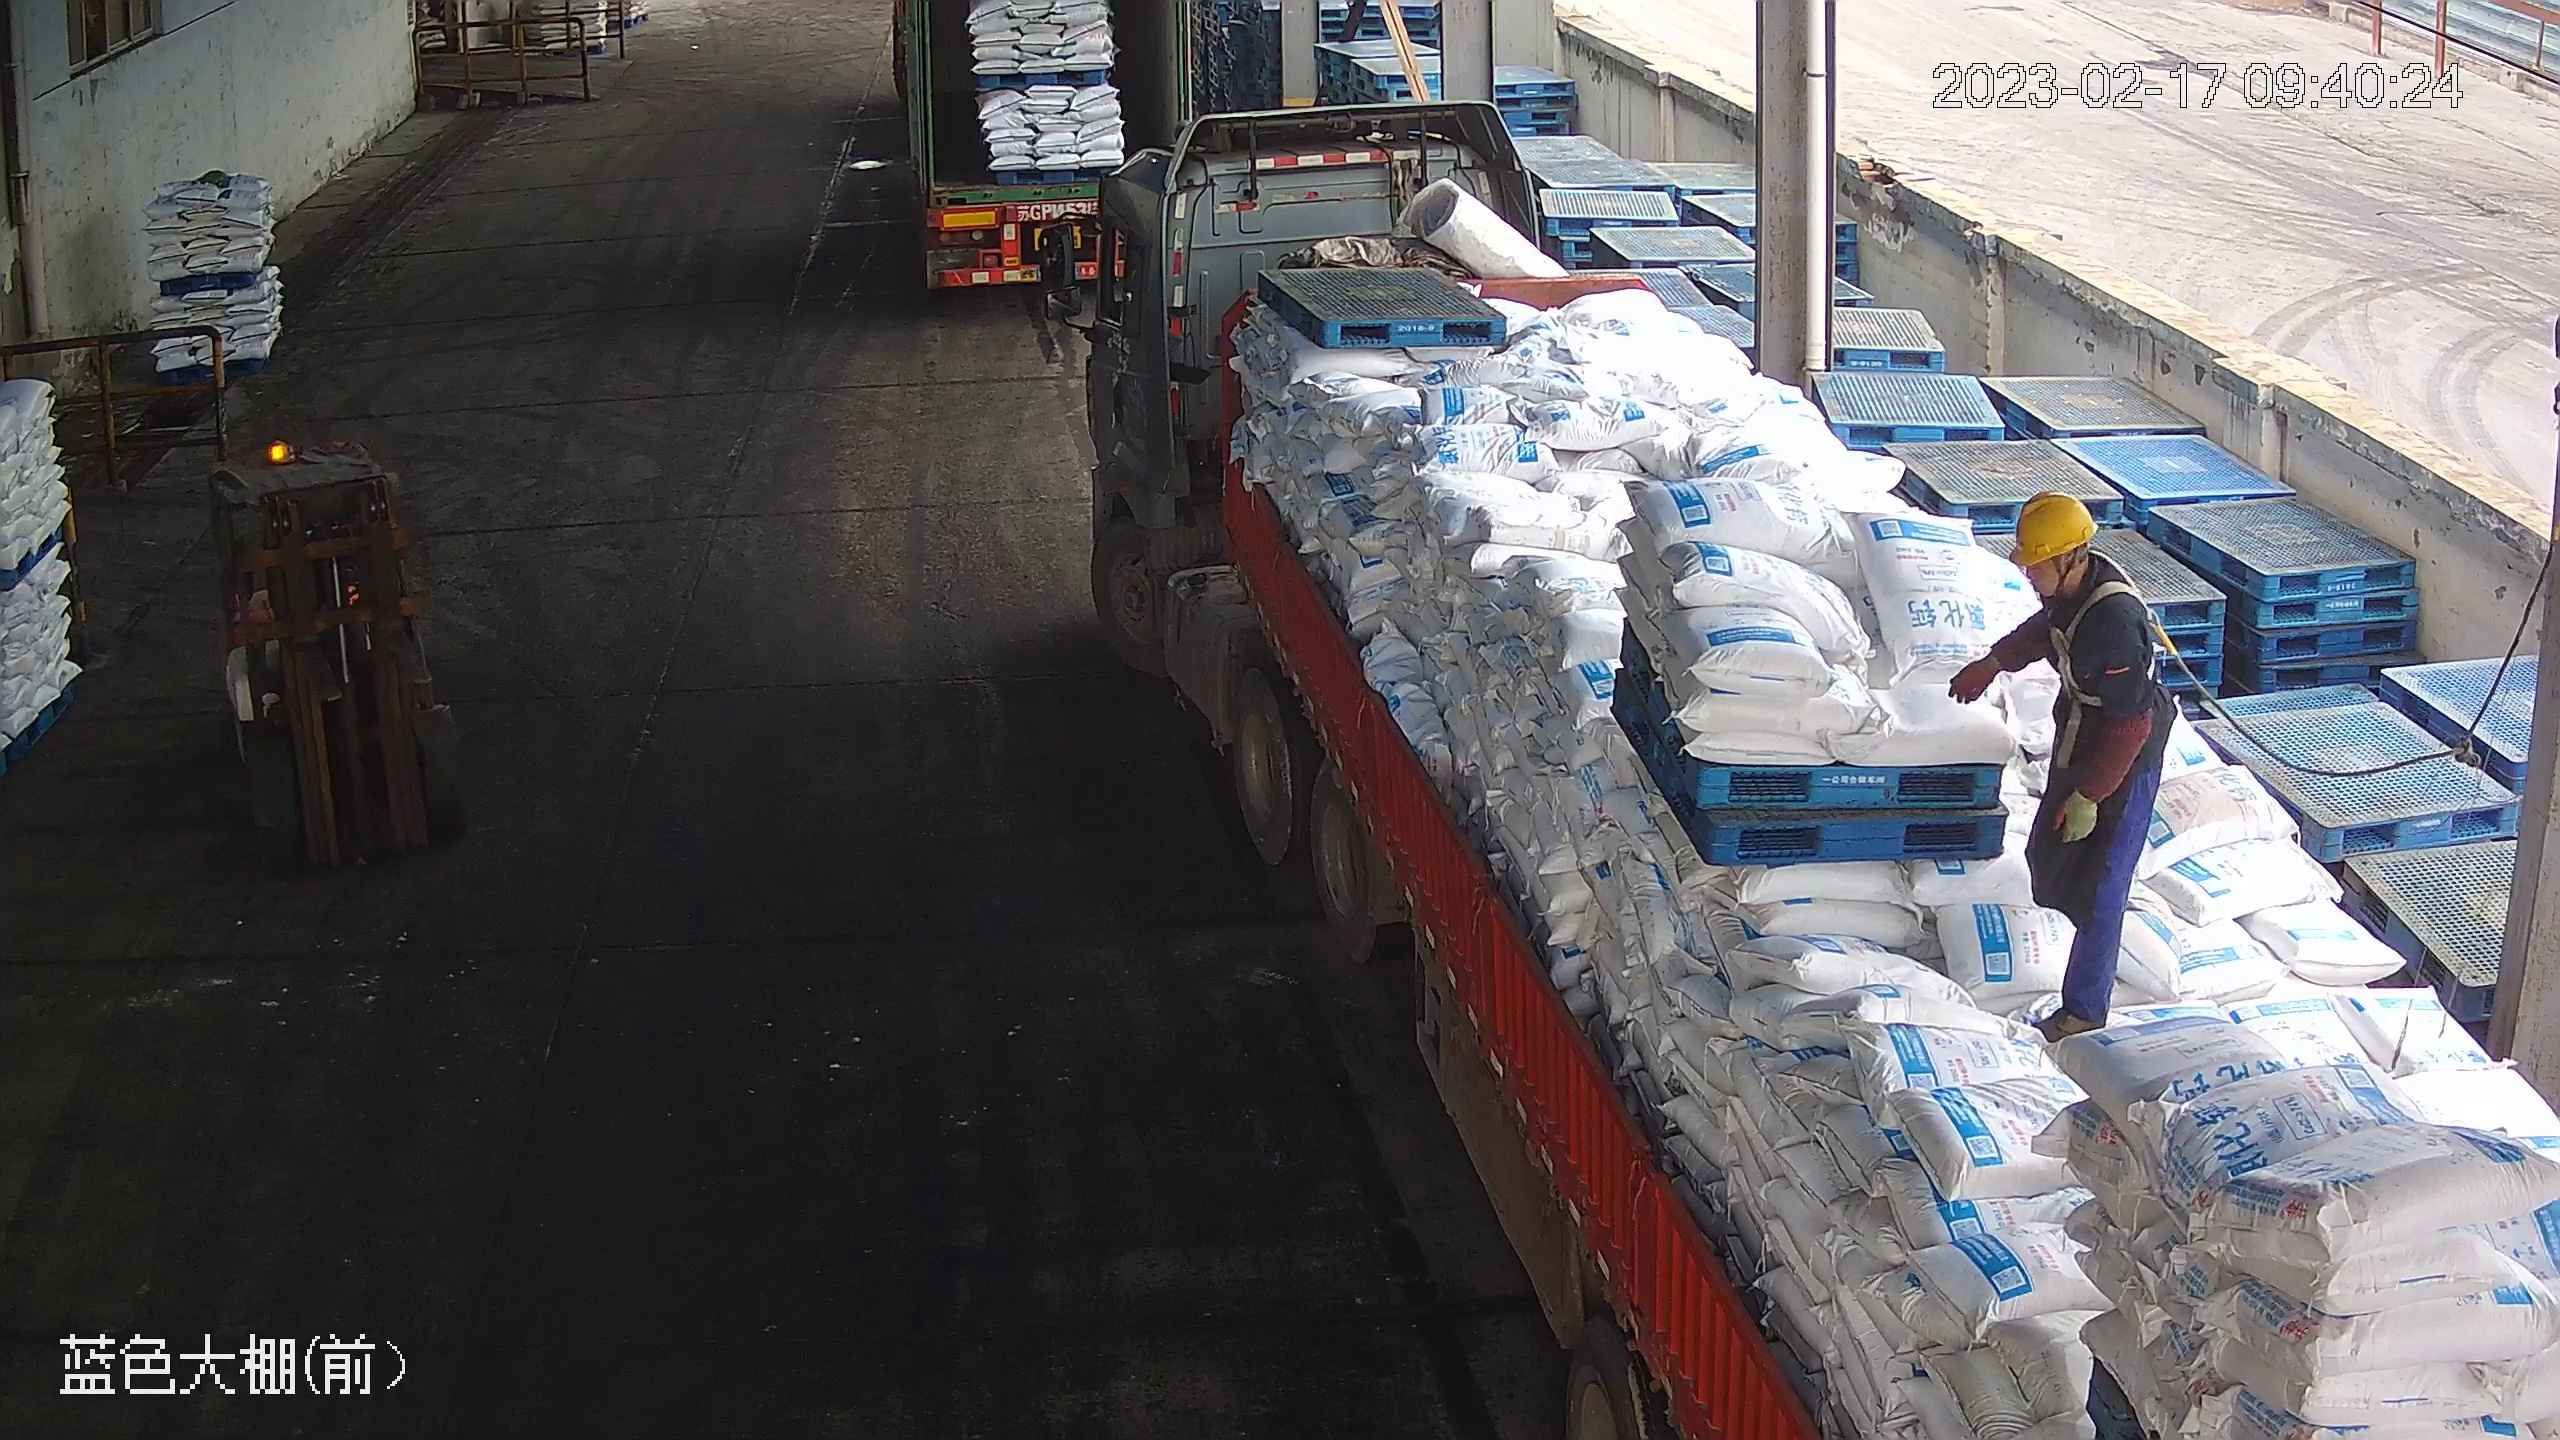belt: (2045, 578, 2176, 691)
head: (1998, 491, 2154, 651)
helmet: (2003, 487, 2104, 568)
people: (1946, 489, 2172, 1046)
truck: (1040, 98, 2560, 1440), (894, 1, 1179, 294)
